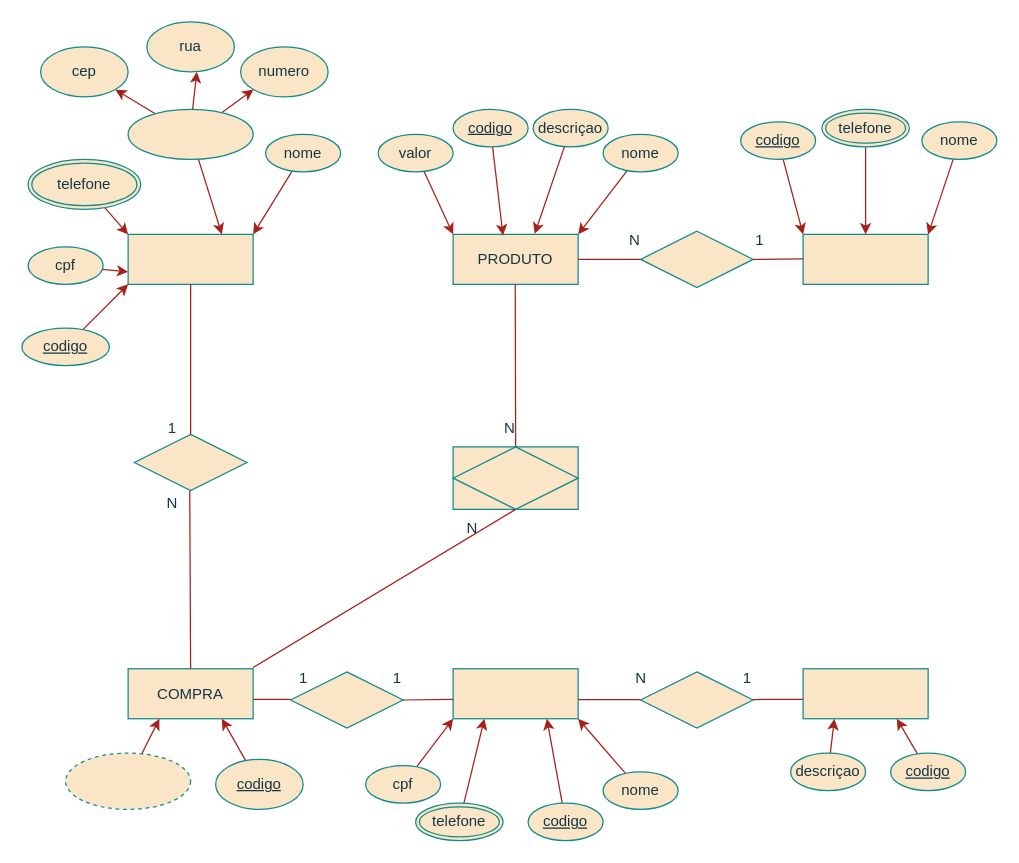
The diagram is 1019 pixels wide and 863 high, and some of its shapes have lost their labels. The shapes that lost their labels are listed below. From the top down, each one's box as (x1, y1, x2, y2) in pixels, then its label:
(127, 108, 253, 159): endereço
(127, 233, 253, 284): CLIENTE
(639, 230, 753, 288): FORNECE
(802, 233, 928, 284): FORNECEDOR
(133, 433, 247, 491): REALIZA
(452, 446, 578, 509): CONTEM
(289, 671, 403, 728): REGISTRA
(452, 668, 578, 719): FUNCIONÁRIO
(639, 671, 753, 728): PERTENCE
(802, 668, 928, 719): DEPARTAMENTO
(64, 752, 191, 809): quantidade_ produtos
